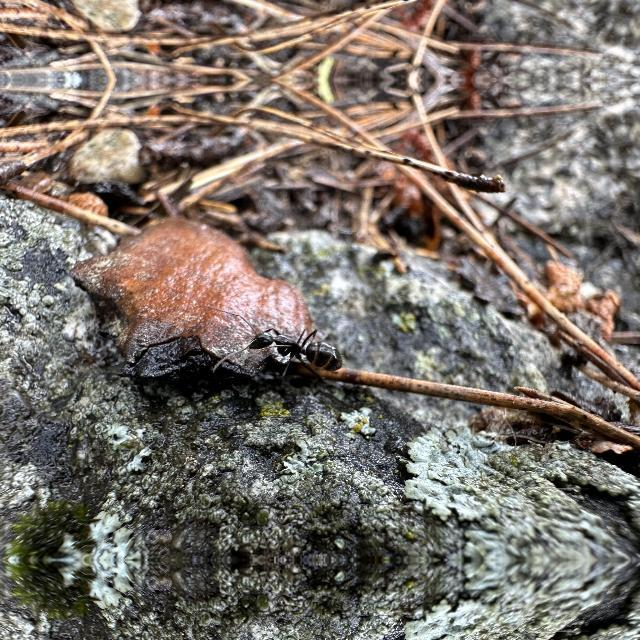Camponotus: (236, 316, 354, 382)
